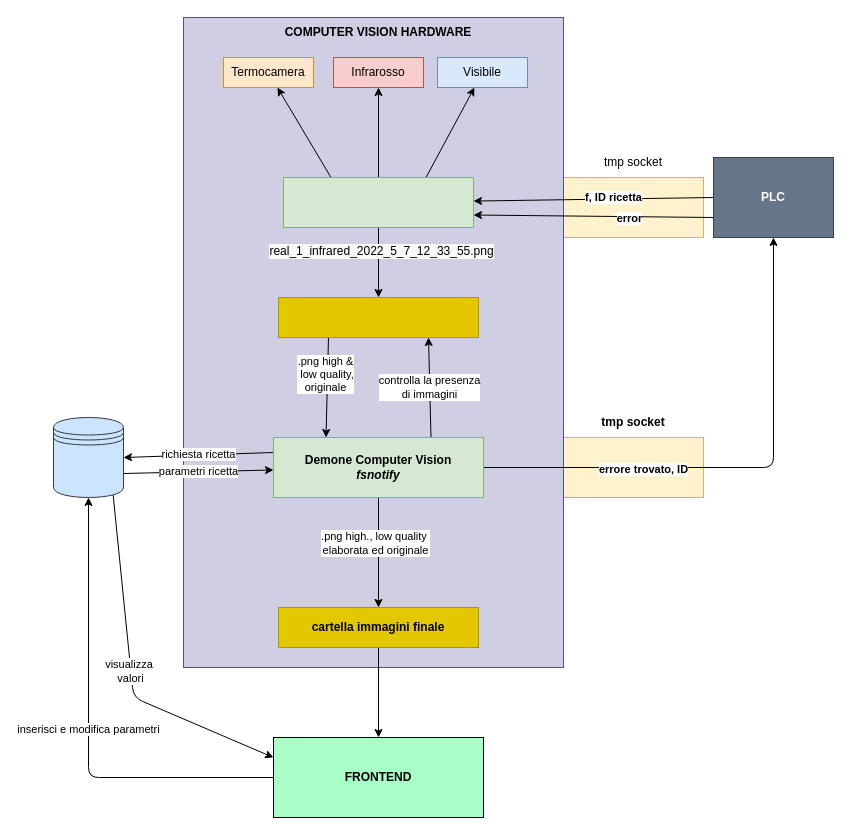
Image size: 851x835. Some labels were removed from this diagram. The shapes that lost their labels are listed below. From the top down, each one's centre as x and y in pixels, then its label:
At [378,202]: "Demone cattura immagini".
At [378,317]: "cartella temporanea immagini".
At [88,457]: "SQLite".
